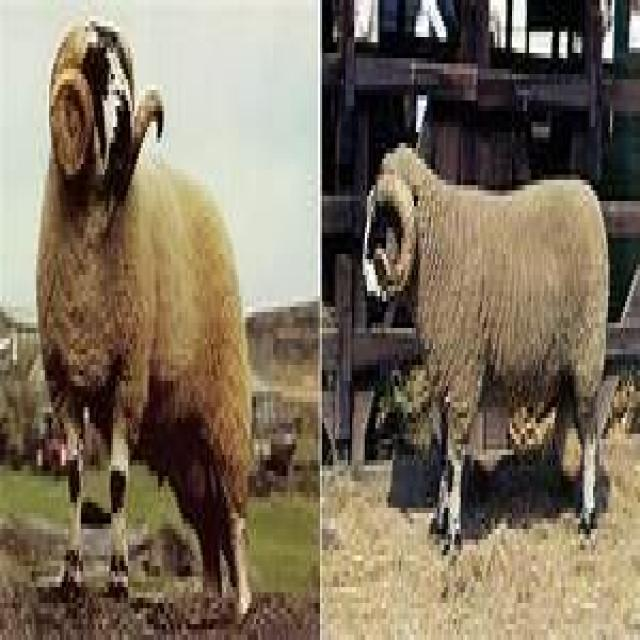goat: (34, 21, 254, 629), (367, 143, 614, 550)
